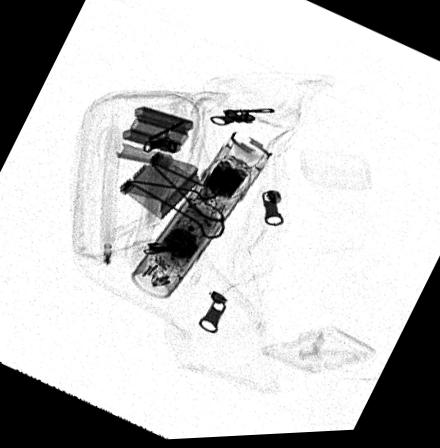Baton: (129, 134, 273, 304)
